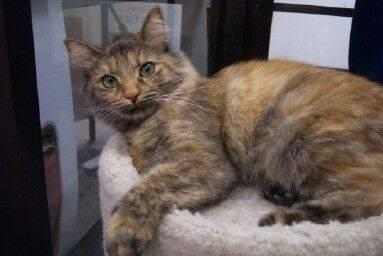cat: (66, 7, 382, 255)
